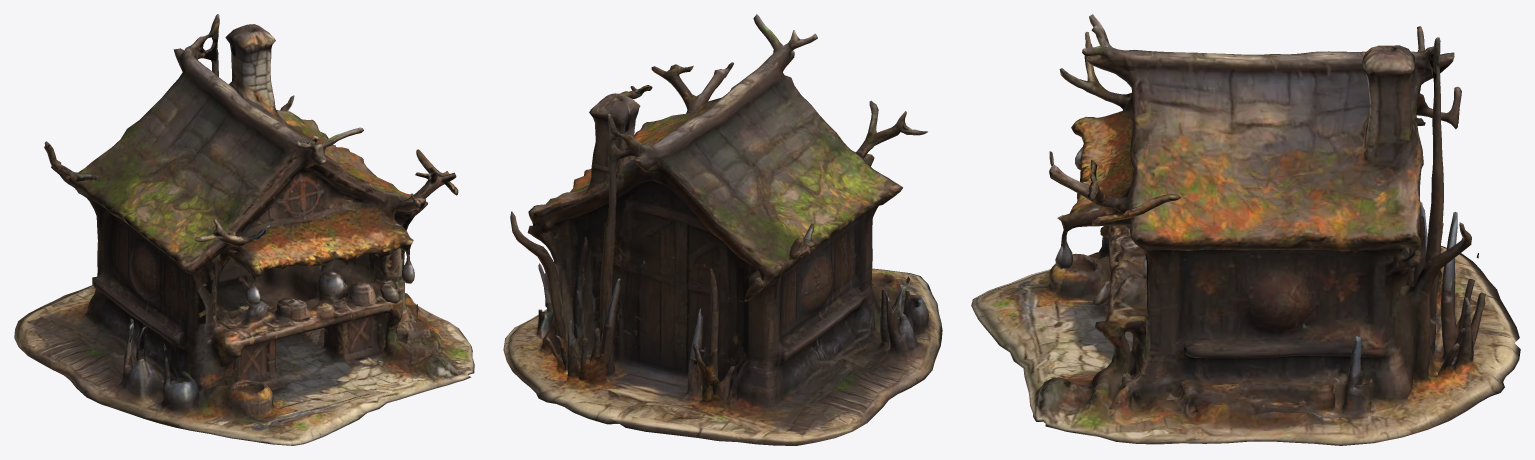
File: bazaar-merchant-stand.glb
3 renders of one model, left to right at view 1: azimuth 30°, elevation 25°; view 2: azimuth 150°, elevation 25°; view 3: azimuth 270°, elevation 25°, orthographic. The views are drawn at different scales.
Parts seen in each view (by area): view 1: Object_2; view 2: Object_2; view 3: Object_2.
Boxes of the visible parts, x1,y1,x2,y2 form: Object_2: (14,14,474,445); Object_2: (503,14,942,445); Object_2: (971,14,1520,445).
Bounding box in the file's own units: 1.82 × 1.33 × 2.
1 material, 1 textured.
